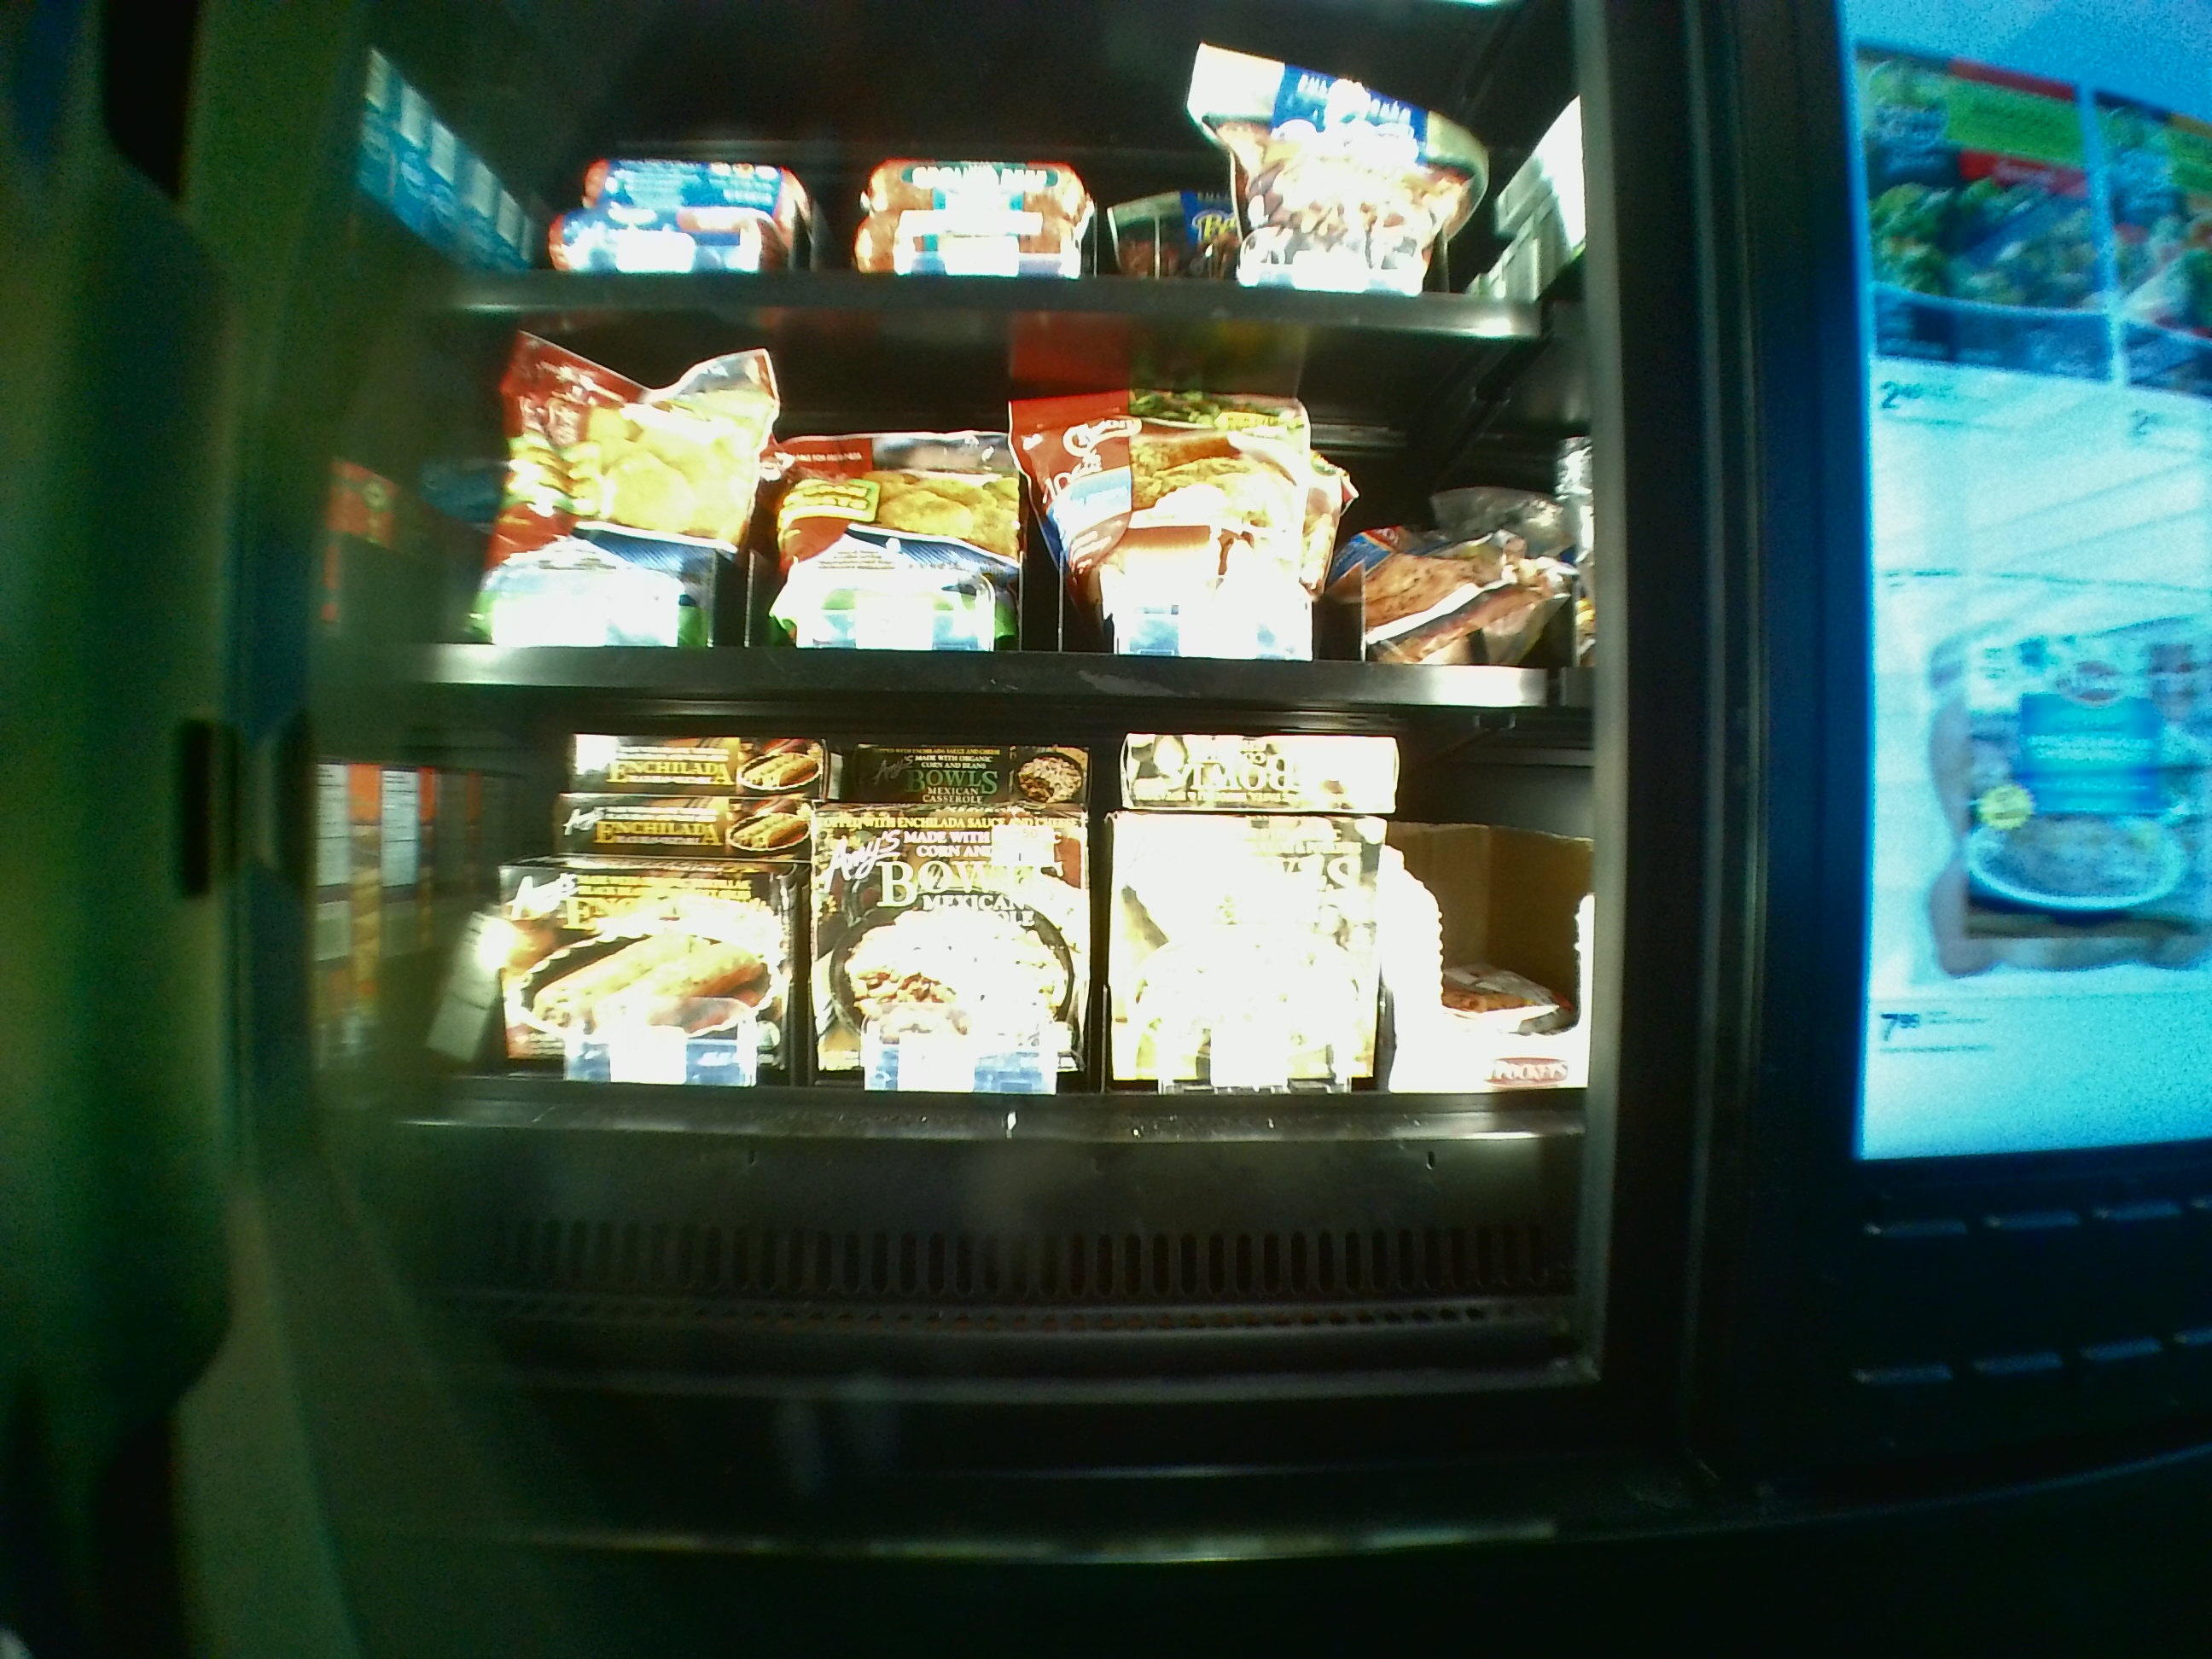shelf: (350, 723, 1581, 1364), (355, 312, 1583, 716)
